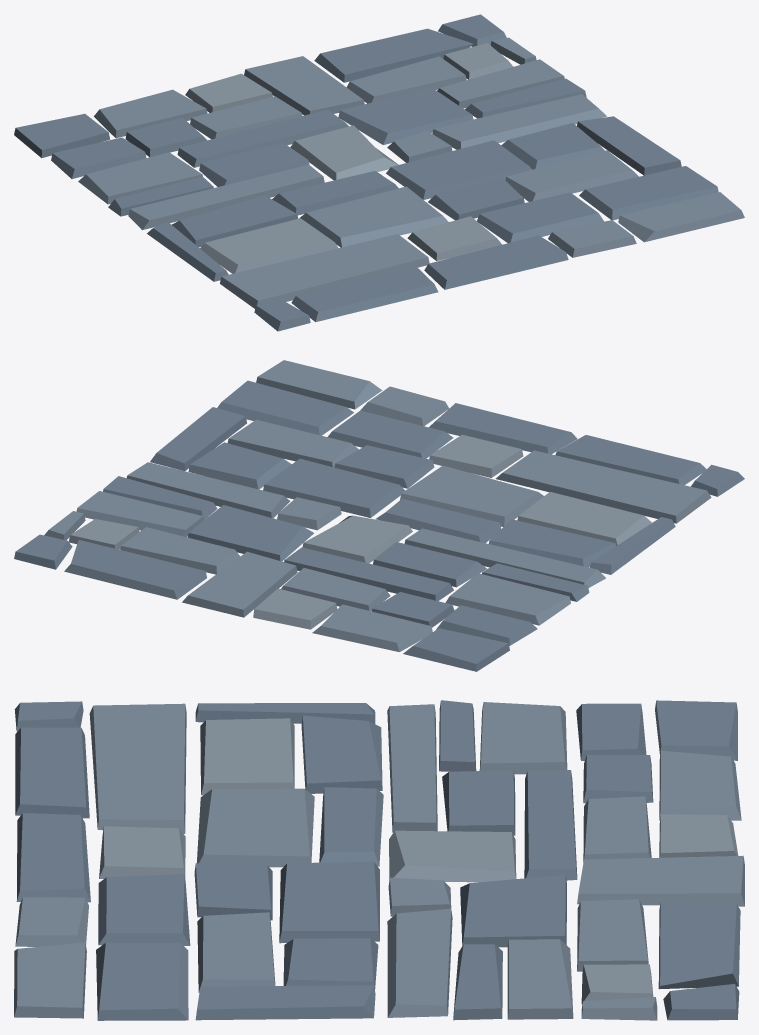
File: walkway_stone.glb
3 renders of one model, top to bottom at view 1: azimuth 30°, elevation 25°; view 2: azimuth 150°, elevation 25°; view 3: azimuth 270°, elevation 25°, orthographic. The views are drawn at different scales.
Parts seen in each view (by area): view 1: walkway-stone_texture_0; view 2: walkway-stone_texture_0; view 3: walkway-stone_texture_0.
Part boxes in pixels (left/top/right/bottom): walkway-stone_texture_0: left=14, top=14, right=744, bottom=331; walkway-stone_texture_0: left=14, top=360, right=744, bottom=671; walkway-stone_texture_0: left=14, top=700, right=744, bottom=1020.
Size of the model in its own units: 1.87 by 0.0277 by 1.85.
Materials: 1 (1 with a texture image).
